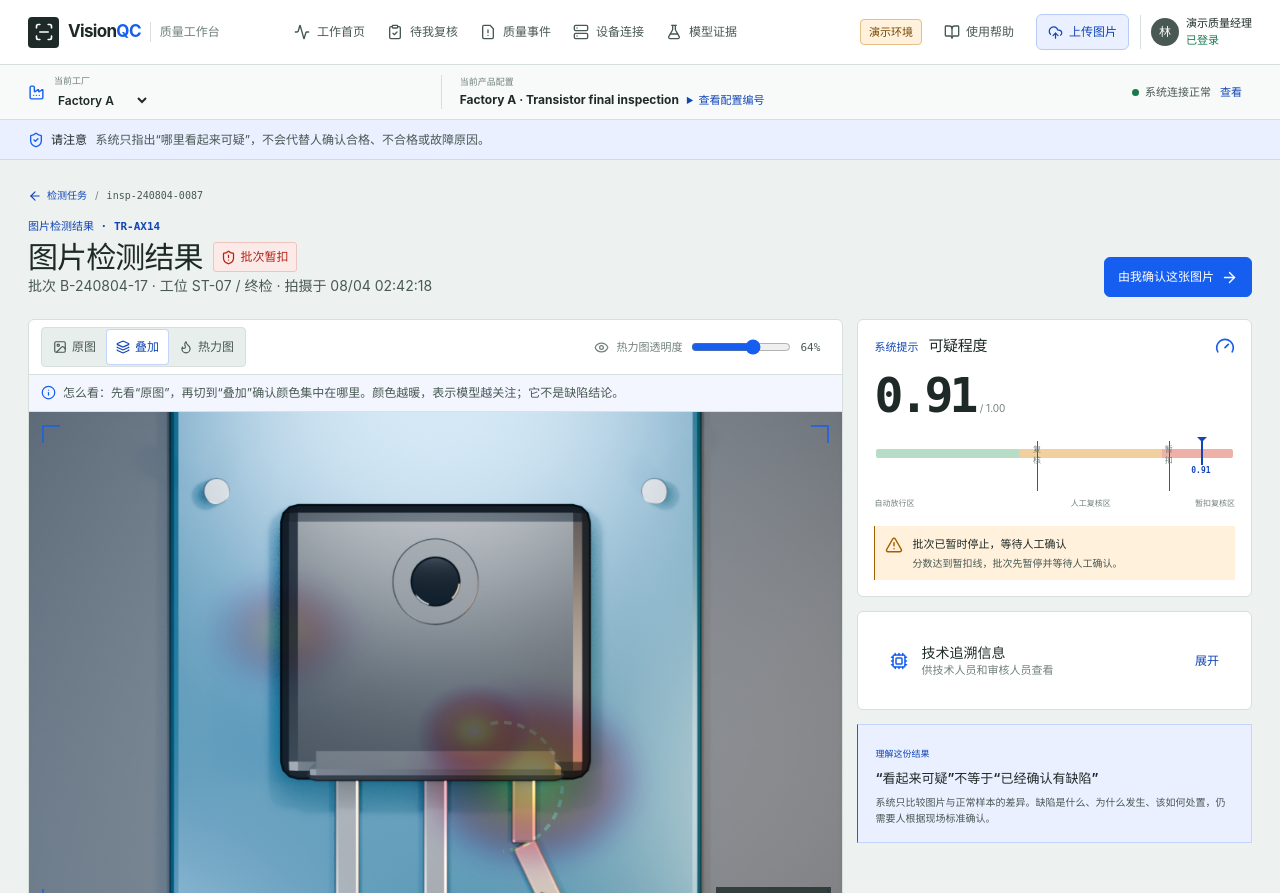
Test: VisionQC quality workstation › shows versioned evidence and allows heatmap opacity control
The width and height of the screenshot is (1280, 893).
Expected: the heading "图片检测结果" is shown, left=28, top=240, right=203, bottom=275
Expected: the text "“看起来可疑”不等于“已经确认有缺陷”" is shown, left=875, top=770, right=1098, bottom=786
Step 1. Click the text "技术追溯信息" → (963, 653), box left=921, top=644, right=1005, bottom=661
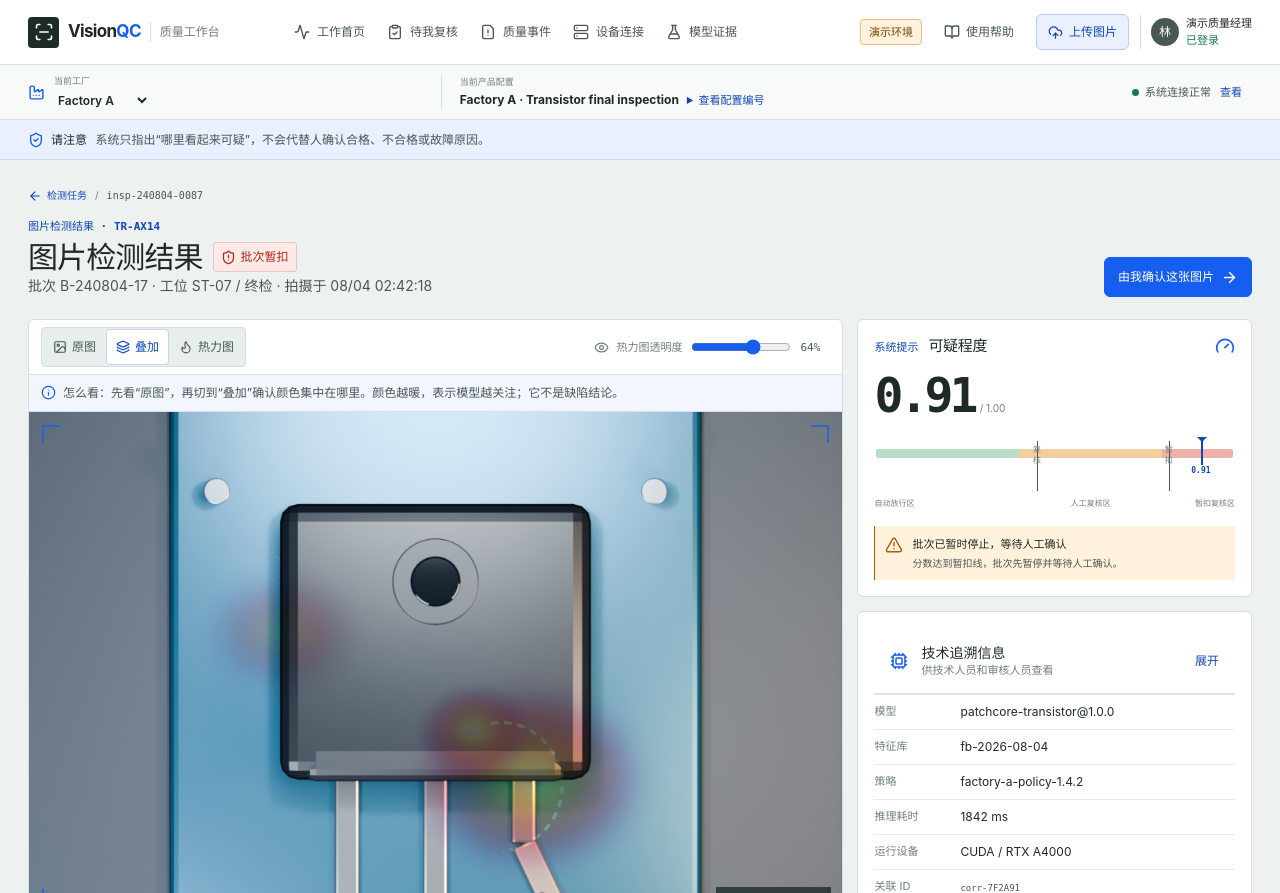
Expected: the text "批次已暂时停止，等待人工确认" is shown, left=912, top=537, right=1066, bottom=551
Expected: the text "patchcore-transistor@1.0.0" is shown, left=960, top=704, right=1114, bottom=719
Step 2. Set the slider labelled "热力图透明度" to "25" → (720, 347), box left=691, top=339, right=791, bottom=355
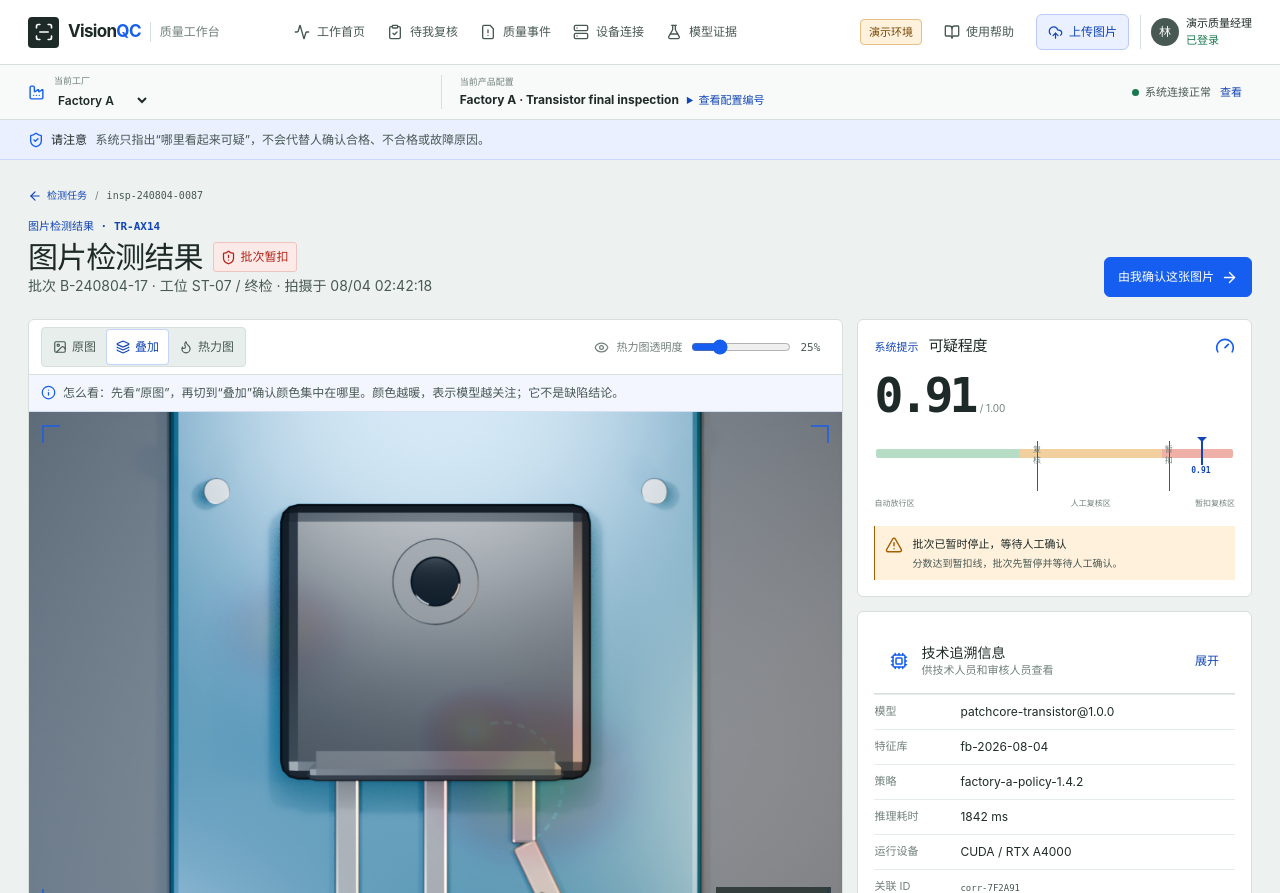
Expected: the text "25%" is shown, left=800, top=341, right=820, bottom=354
